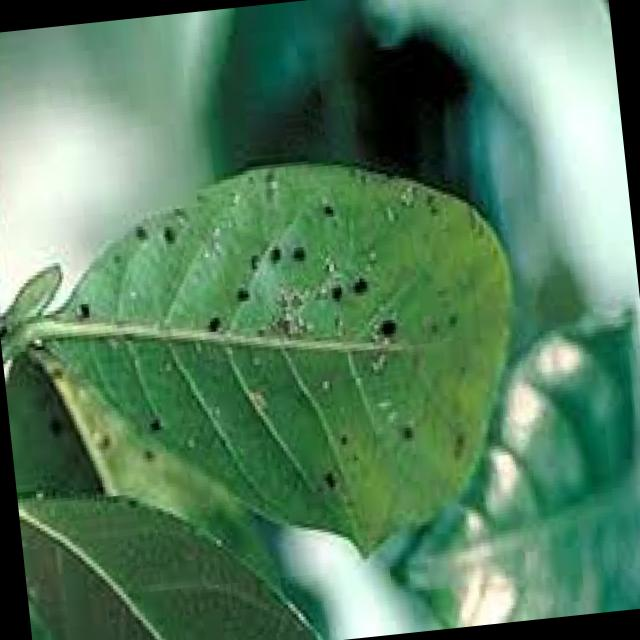aphid: (240, 376, 273, 421), (376, 192, 399, 232), (370, 384, 394, 414), (311, 370, 335, 396), (379, 401, 400, 426)
